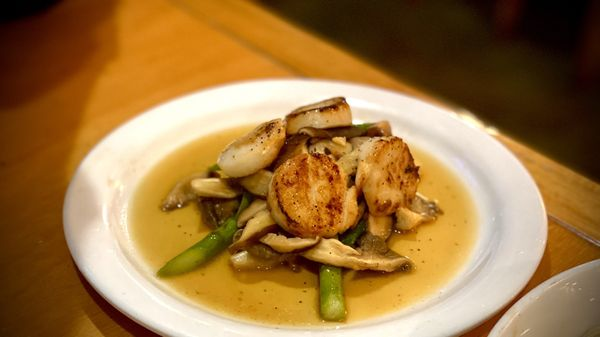sushi: (63, 78, 521, 331), (487, 257, 600, 334)
